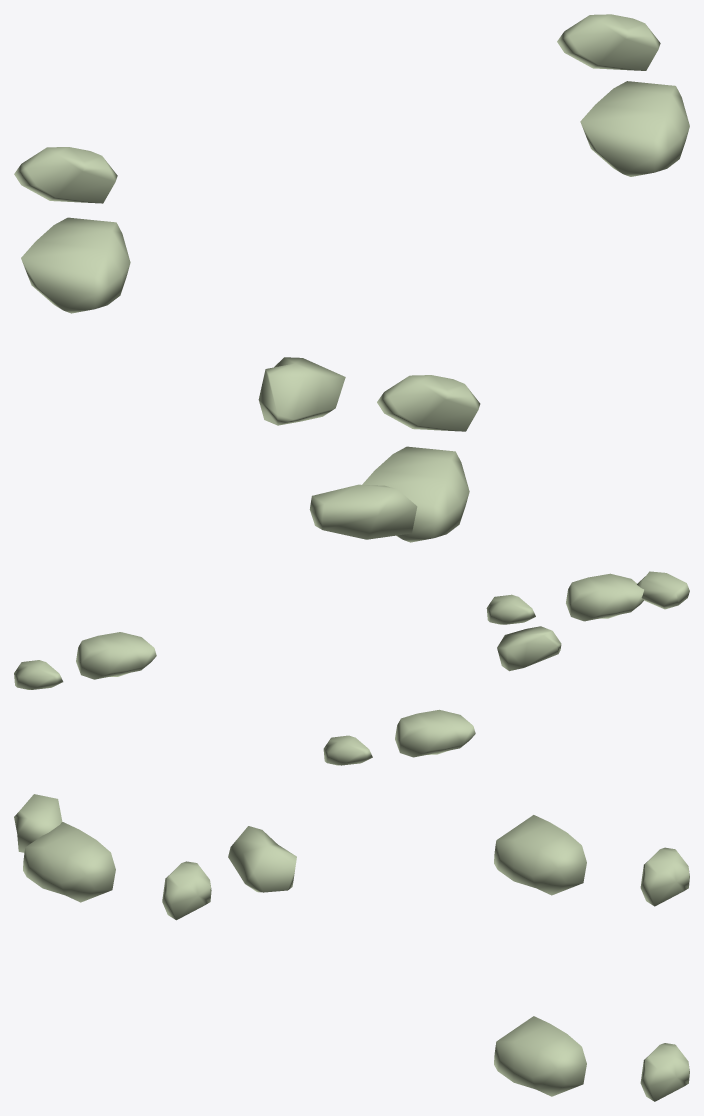
The model's file is Pavement_07B_Lod0.fbx.
The picture shows the model from 3 angles, top to bottom: view 1: azimuth 30°, elevation 25°; view 2: azimuth 150°, elevation 25°; view 3: azimuth 270°, elevation 25°; orthographic projection. The views are drawn at different scales.
Visible parts, largest first — view 1: Pavement_07B_Lod0; view 2: Pavement_07B_Lod0; view 3: Pavement_07B_Lod0.
Part boxes in pixels (x1=…): Pavement_07B_Lod0: x1=14, y1=14, x2=689, y2=542; Pavement_07B_Lod0: x1=14, y1=571, x2=689, y2=765; Pavement_07B_Lod0: x1=14, y1=794, x2=689, y2=1101.
Size of the model in its own units: 235 by 23.44 by 247.
